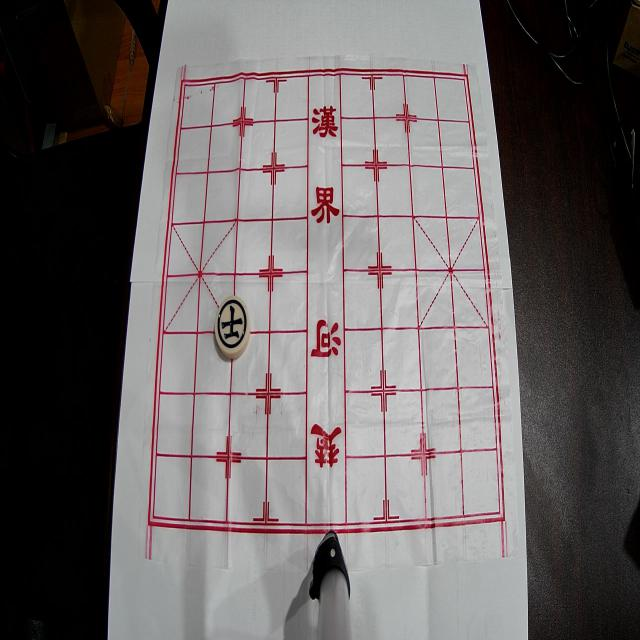black-guard: (215, 296, 250, 358)
